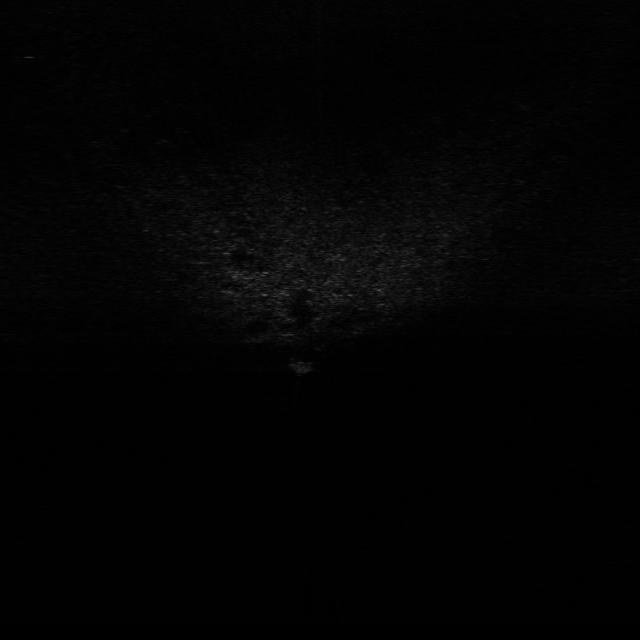cube: (287, 353, 323, 377)
